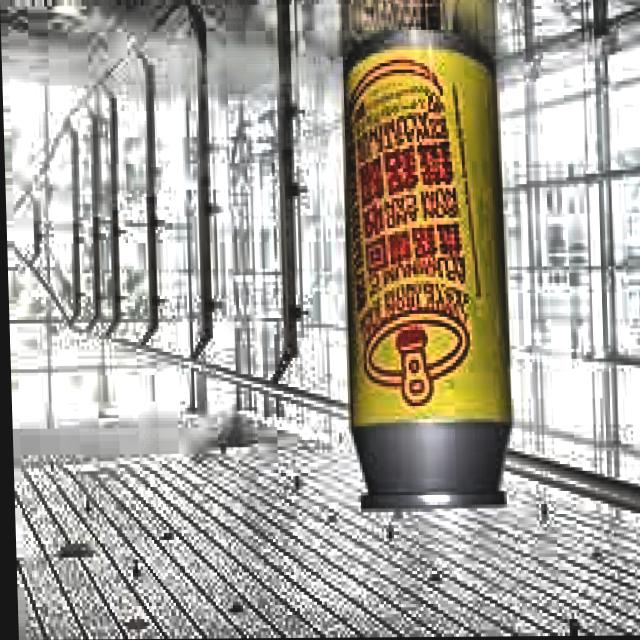can: (332, 24, 518, 532)
